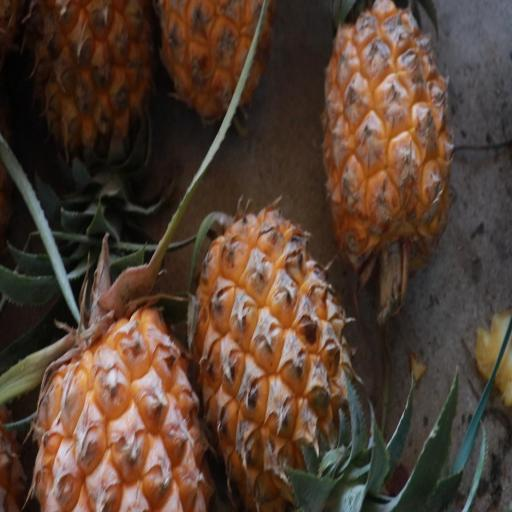Pineapple - v8 v1: (34, 175, 216, 512), (187, 180, 358, 512), (316, 0, 456, 282), (30, 0, 162, 201), (152, 0, 280, 135)
